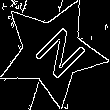N_SW: (20, 20, 84, 84)
